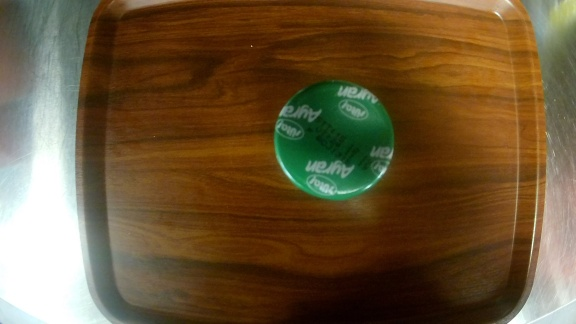ayran: (269, 78, 402, 205)
